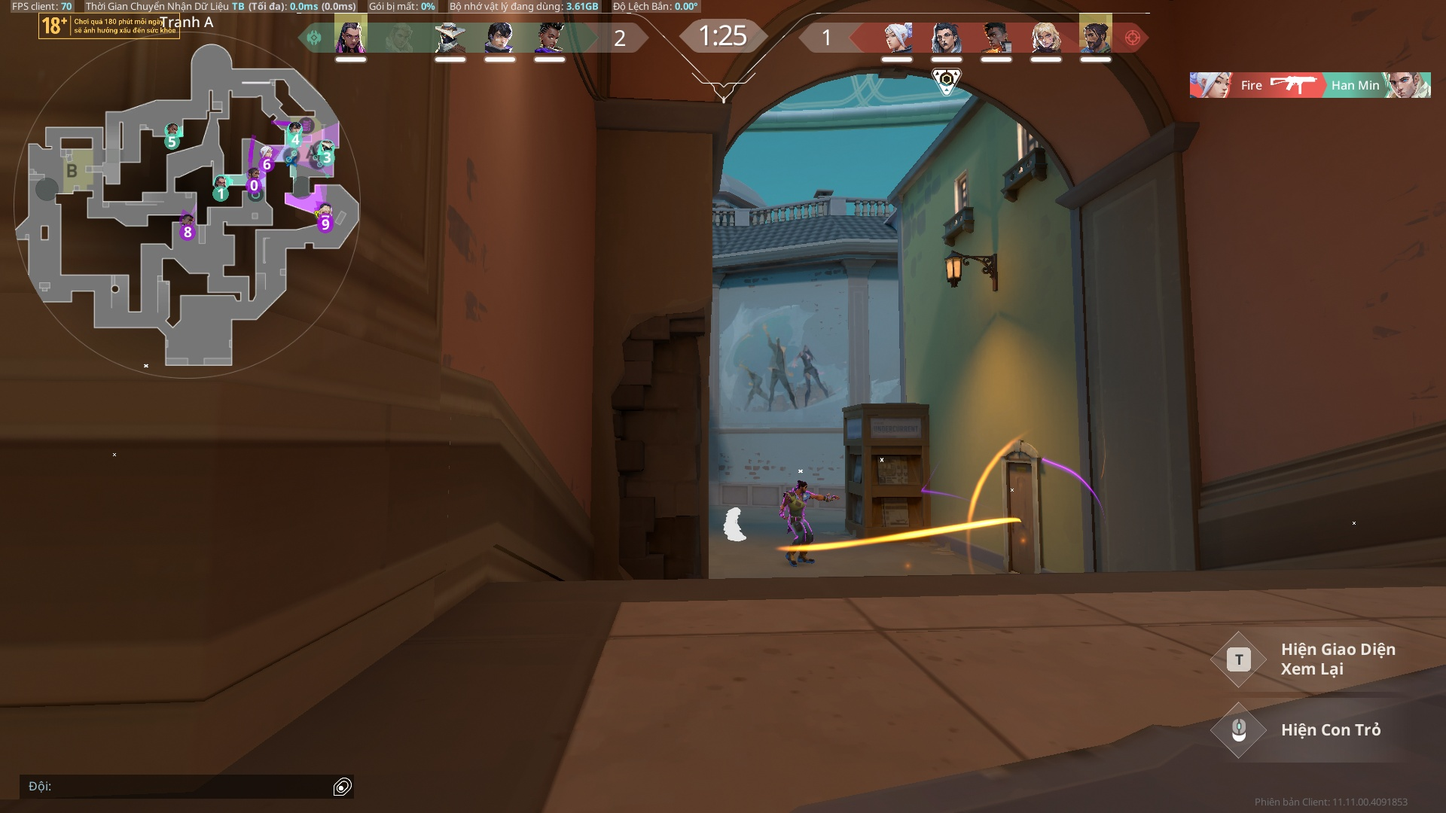body: (784, 488, 809, 516)
head: (795, 479, 809, 492)
